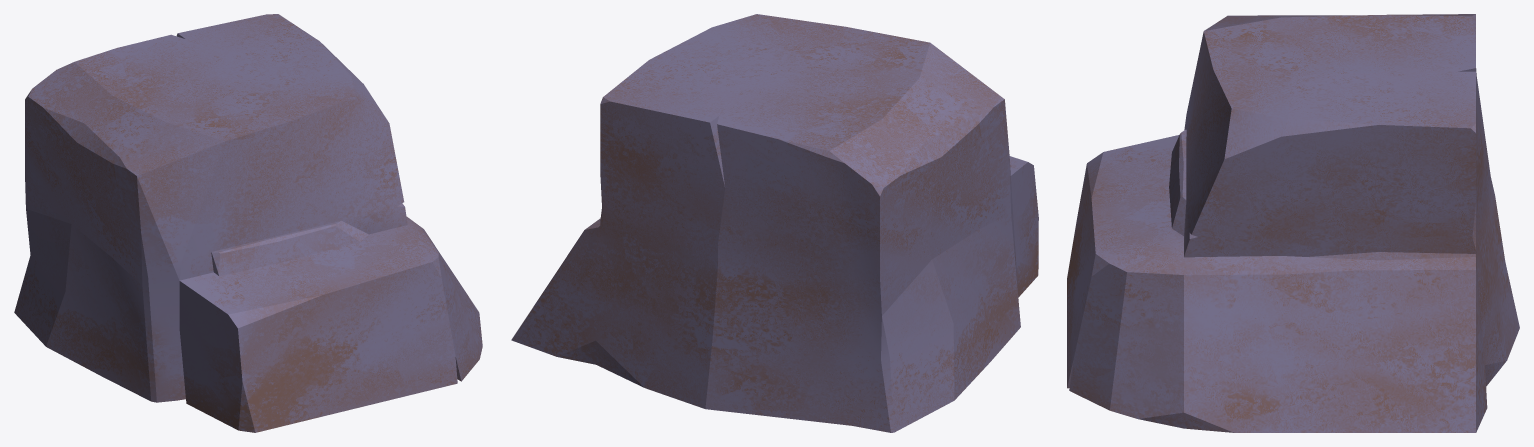
Rendered from rock_2.fbx.
3 views of the same model, side by side, from view 1: azimuth 30°, elevation 25°; view 2: azimuth 150°, elevation 25°; view 3: azimuth 270°, elevation 25° (orthographic). The views are drawn at different scales.
Parts seen in each view (by area): view 1: rock 2; view 2: rock 2; view 3: rock 2.
Boxes of the visible parts, left/top/right/bottom form: rock 2: left=14, top=14, right=482, bottom=432; rock 2: left=511, top=14, right=1038, bottom=432; rock 2: left=1067, top=14, right=1519, bottom=432.
Size of the model in its own units: 310 by 200 by 310.
